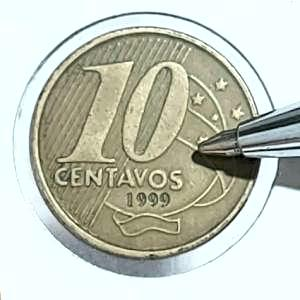10 cent: (37, 29, 267, 256)
